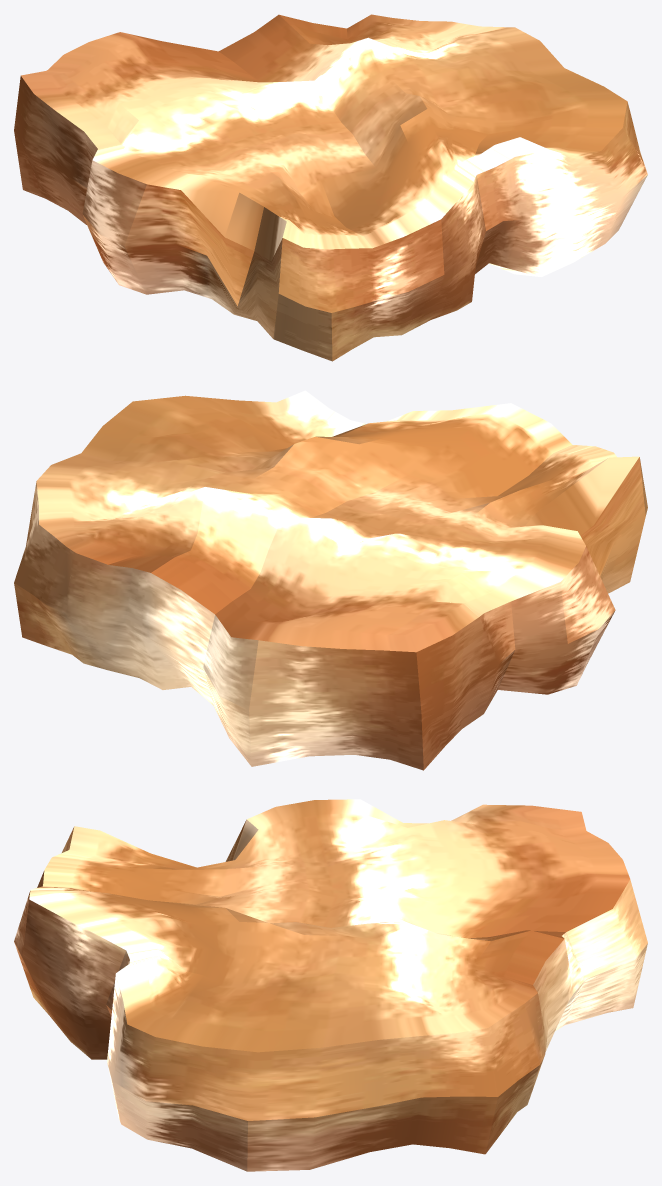
Rendered from platform_001.fbx.
The picture shows the model from 3 angles, top to bottom: view 1: azimuth 30°, elevation 25°; view 2: azimuth 150°, elevation 25°; view 3: azimuth 270°, elevation 25°; orthographic projection. The views are drawn at different scales.
Parts seen in each view (by area): view 1: Platform.001; view 2: Platform.001; view 3: Platform.001.
Boxes of the visible parts, x1,y1,x2,y2 form: Platform.001: (14,14,647,361); Platform.001: (14,390,647,770); Platform.001: (14,799,647,1171).
Bounding box in the file's own units: 304 × 96.9 × 304.
